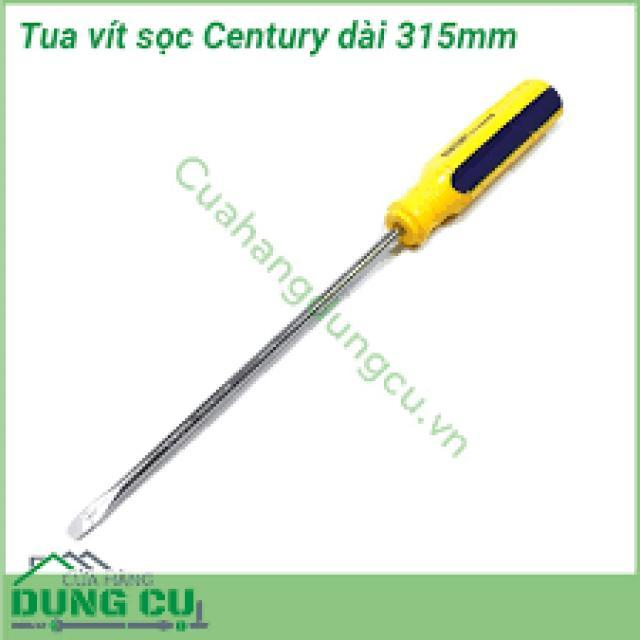screwdriver: (54, 70, 566, 542)
